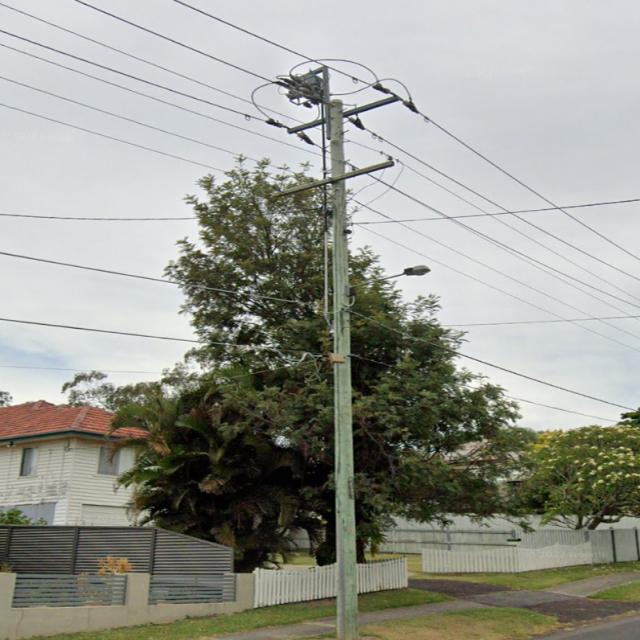HV-switch: (275, 66, 330, 110)
HV-transmission: (265, 83, 419, 146)
crossarm: (271, 160, 395, 199), (286, 96, 399, 134)
streetlight: (348, 264, 432, 288)
timber-pole: (329, 98, 360, 640)
